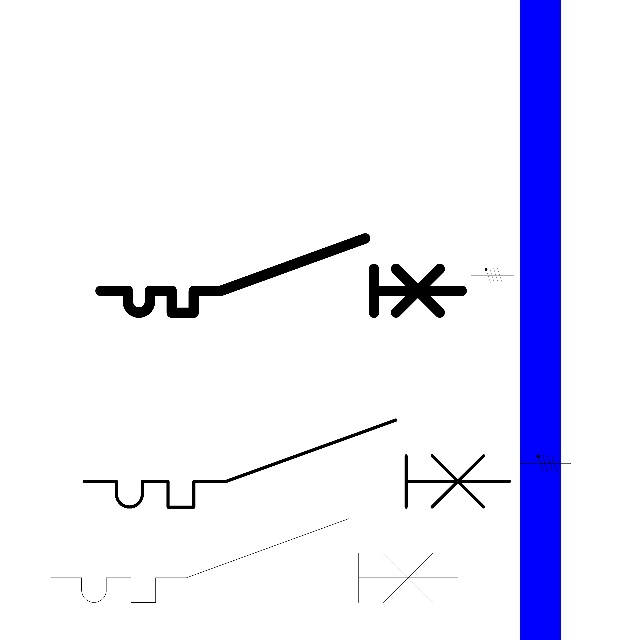interruptor_termomagnetico: (73, 409, 520, 518), (40, 508, 468, 613), (91, 229, 471, 322)
